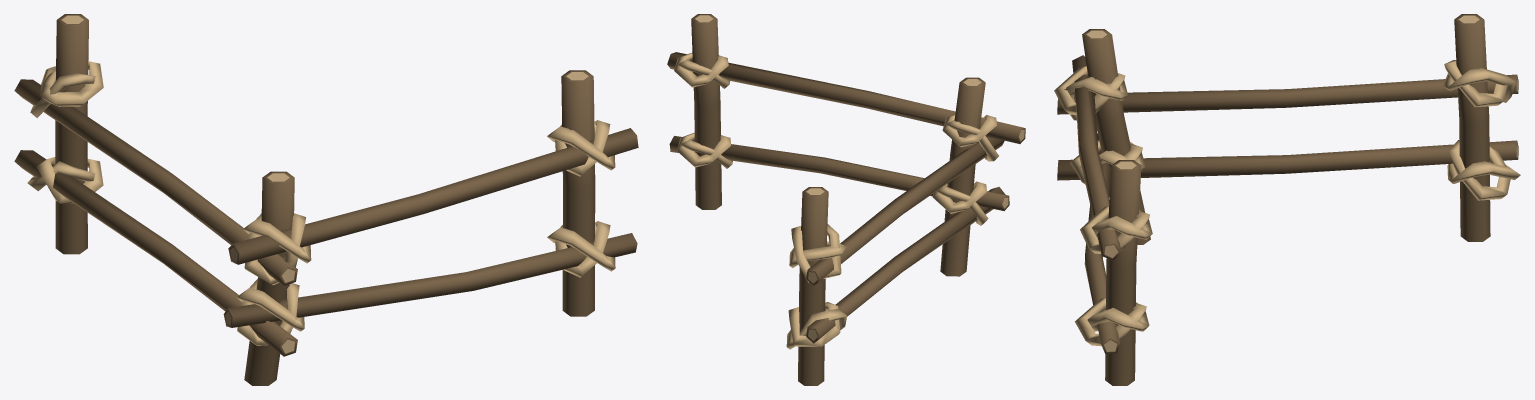
Rendered from rpgpp_ag_fence_01_2x2m_corner.fbx.
The picture shows the model from 3 angles, left to right: view 1: azimuth 30°, elevation 25°; view 2: azimuth 150°, elevation 25°; view 3: azimuth 270°, elevation 25°; orthographic projection. The views are drawn at different scales.
Parts seen in each view (by area): view 1: rpgpp_ag_fence_01_2x2m_corner; view 2: rpgpp_ag_fence_01_2x2m_corner; view 3: rpgpp_ag_fence_01_2x2m_corner.
Part boxes in pixels (<box>): rpgpp_ag_fence_01_2x2m_corner: <box>14,14,638,385</box>; rpgpp_ag_fence_01_2x2m_corner: <box>667,14,1025,385</box>; rpgpp_ag_fence_01_2x2m_corner: <box>1054,14,1520,385</box>.
Size of the model in its own units: 2.79 by 1.48 by 2.9.
